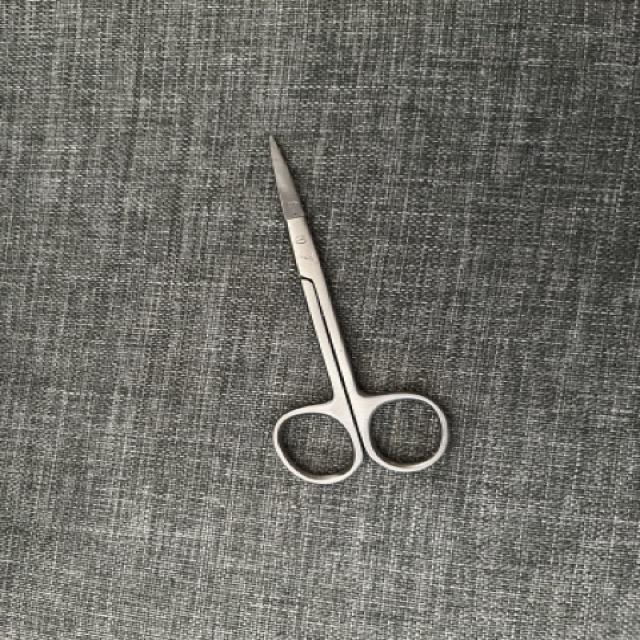scissor: (248, 127, 458, 496)
